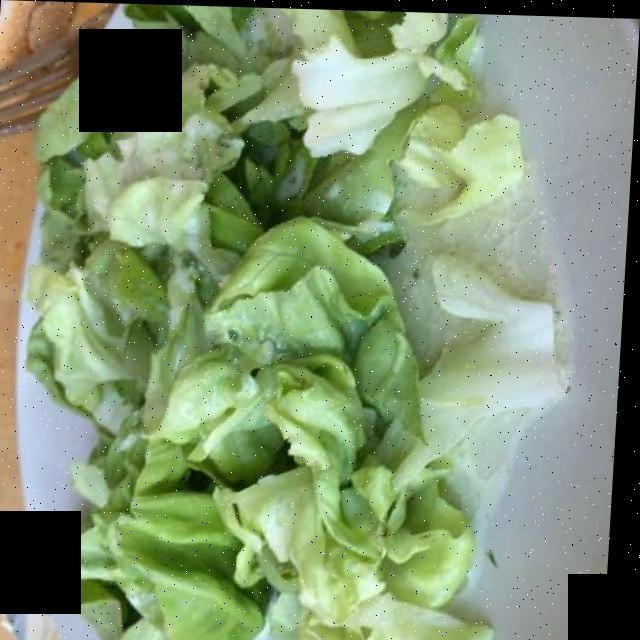salad: (37, 15, 564, 640)
